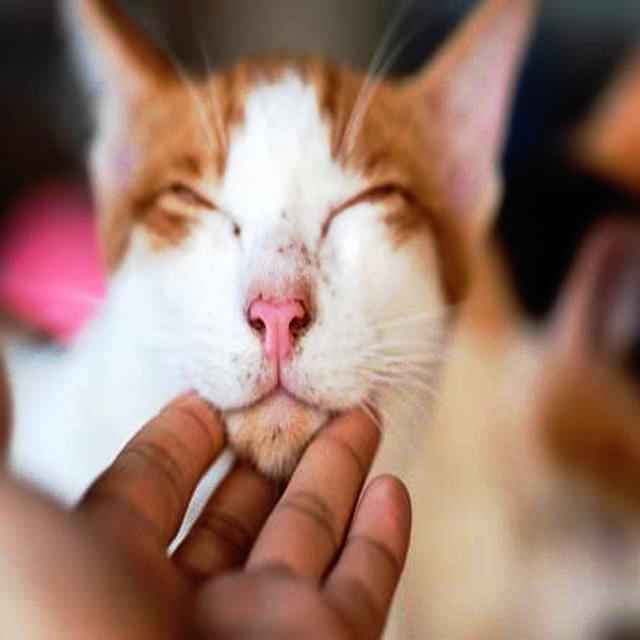acne: (274, 202, 339, 293)
